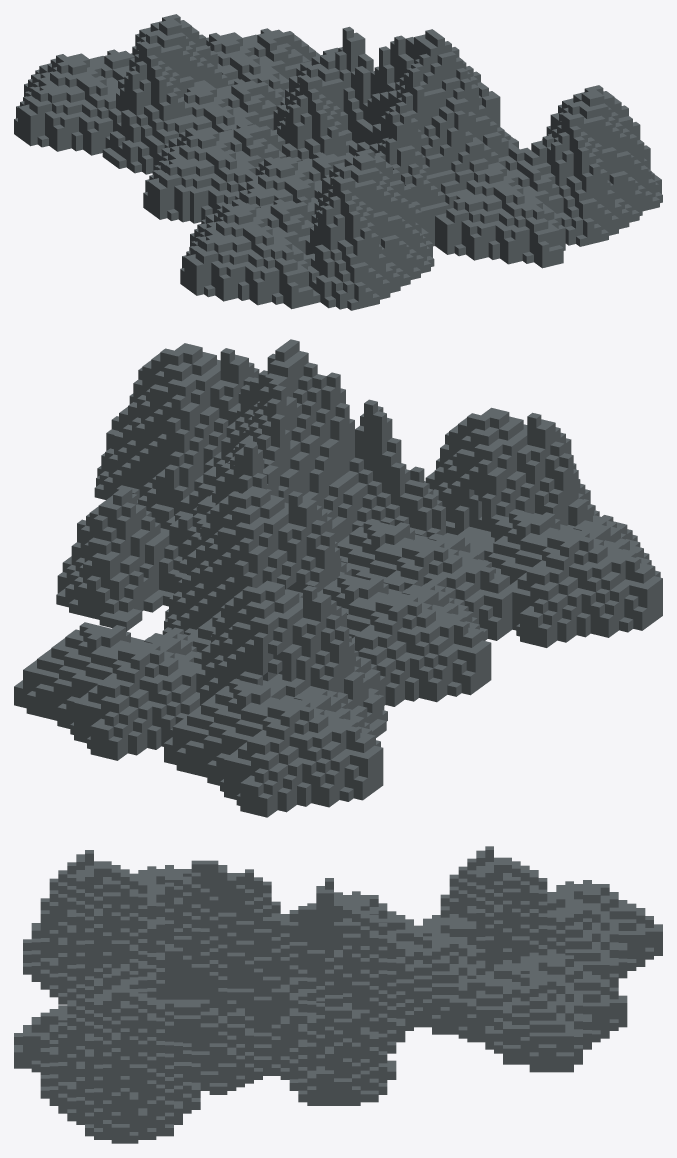
The model's file is big_rocks_3_overtile.obj.
3 renders of one model, top to bottom at view 1: azimuth 30°, elevation 25°; view 2: azimuth 150°, elevation 25°; view 3: azimuth 270°, elevation 25°, orthographic. The views are drawn at different scales.
Bounding box in the file's own units: 6.3 × 2.3 × 7.3.
Materials: 1 (1 with a texture image).
